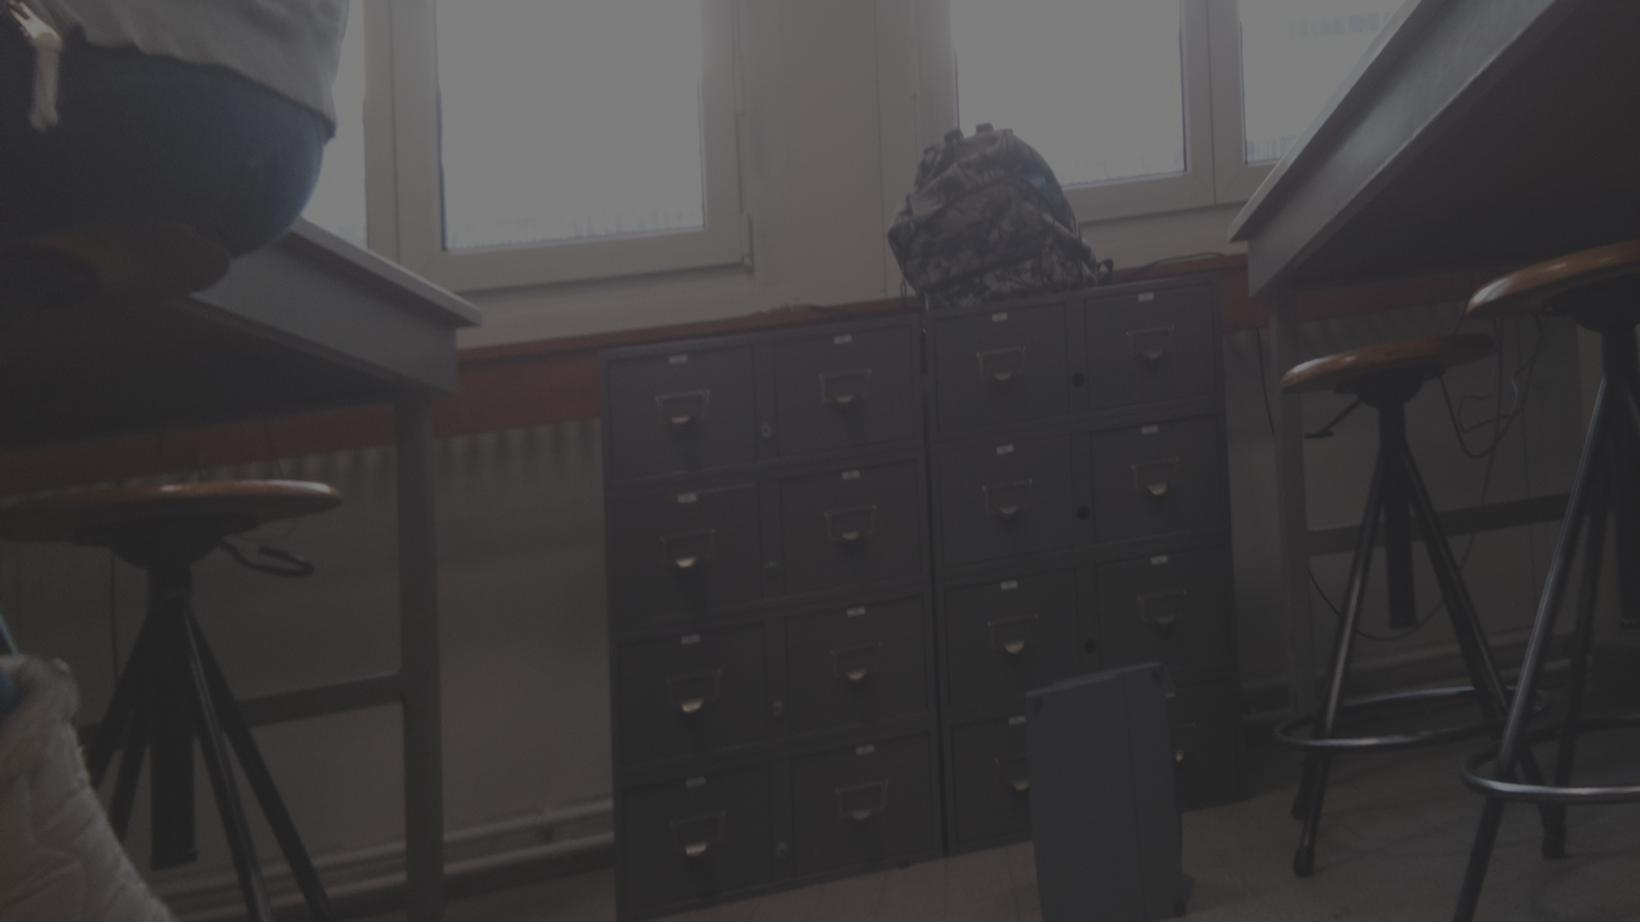big: (883, 120, 1121, 299)
medium: (1019, 659, 1195, 922)
